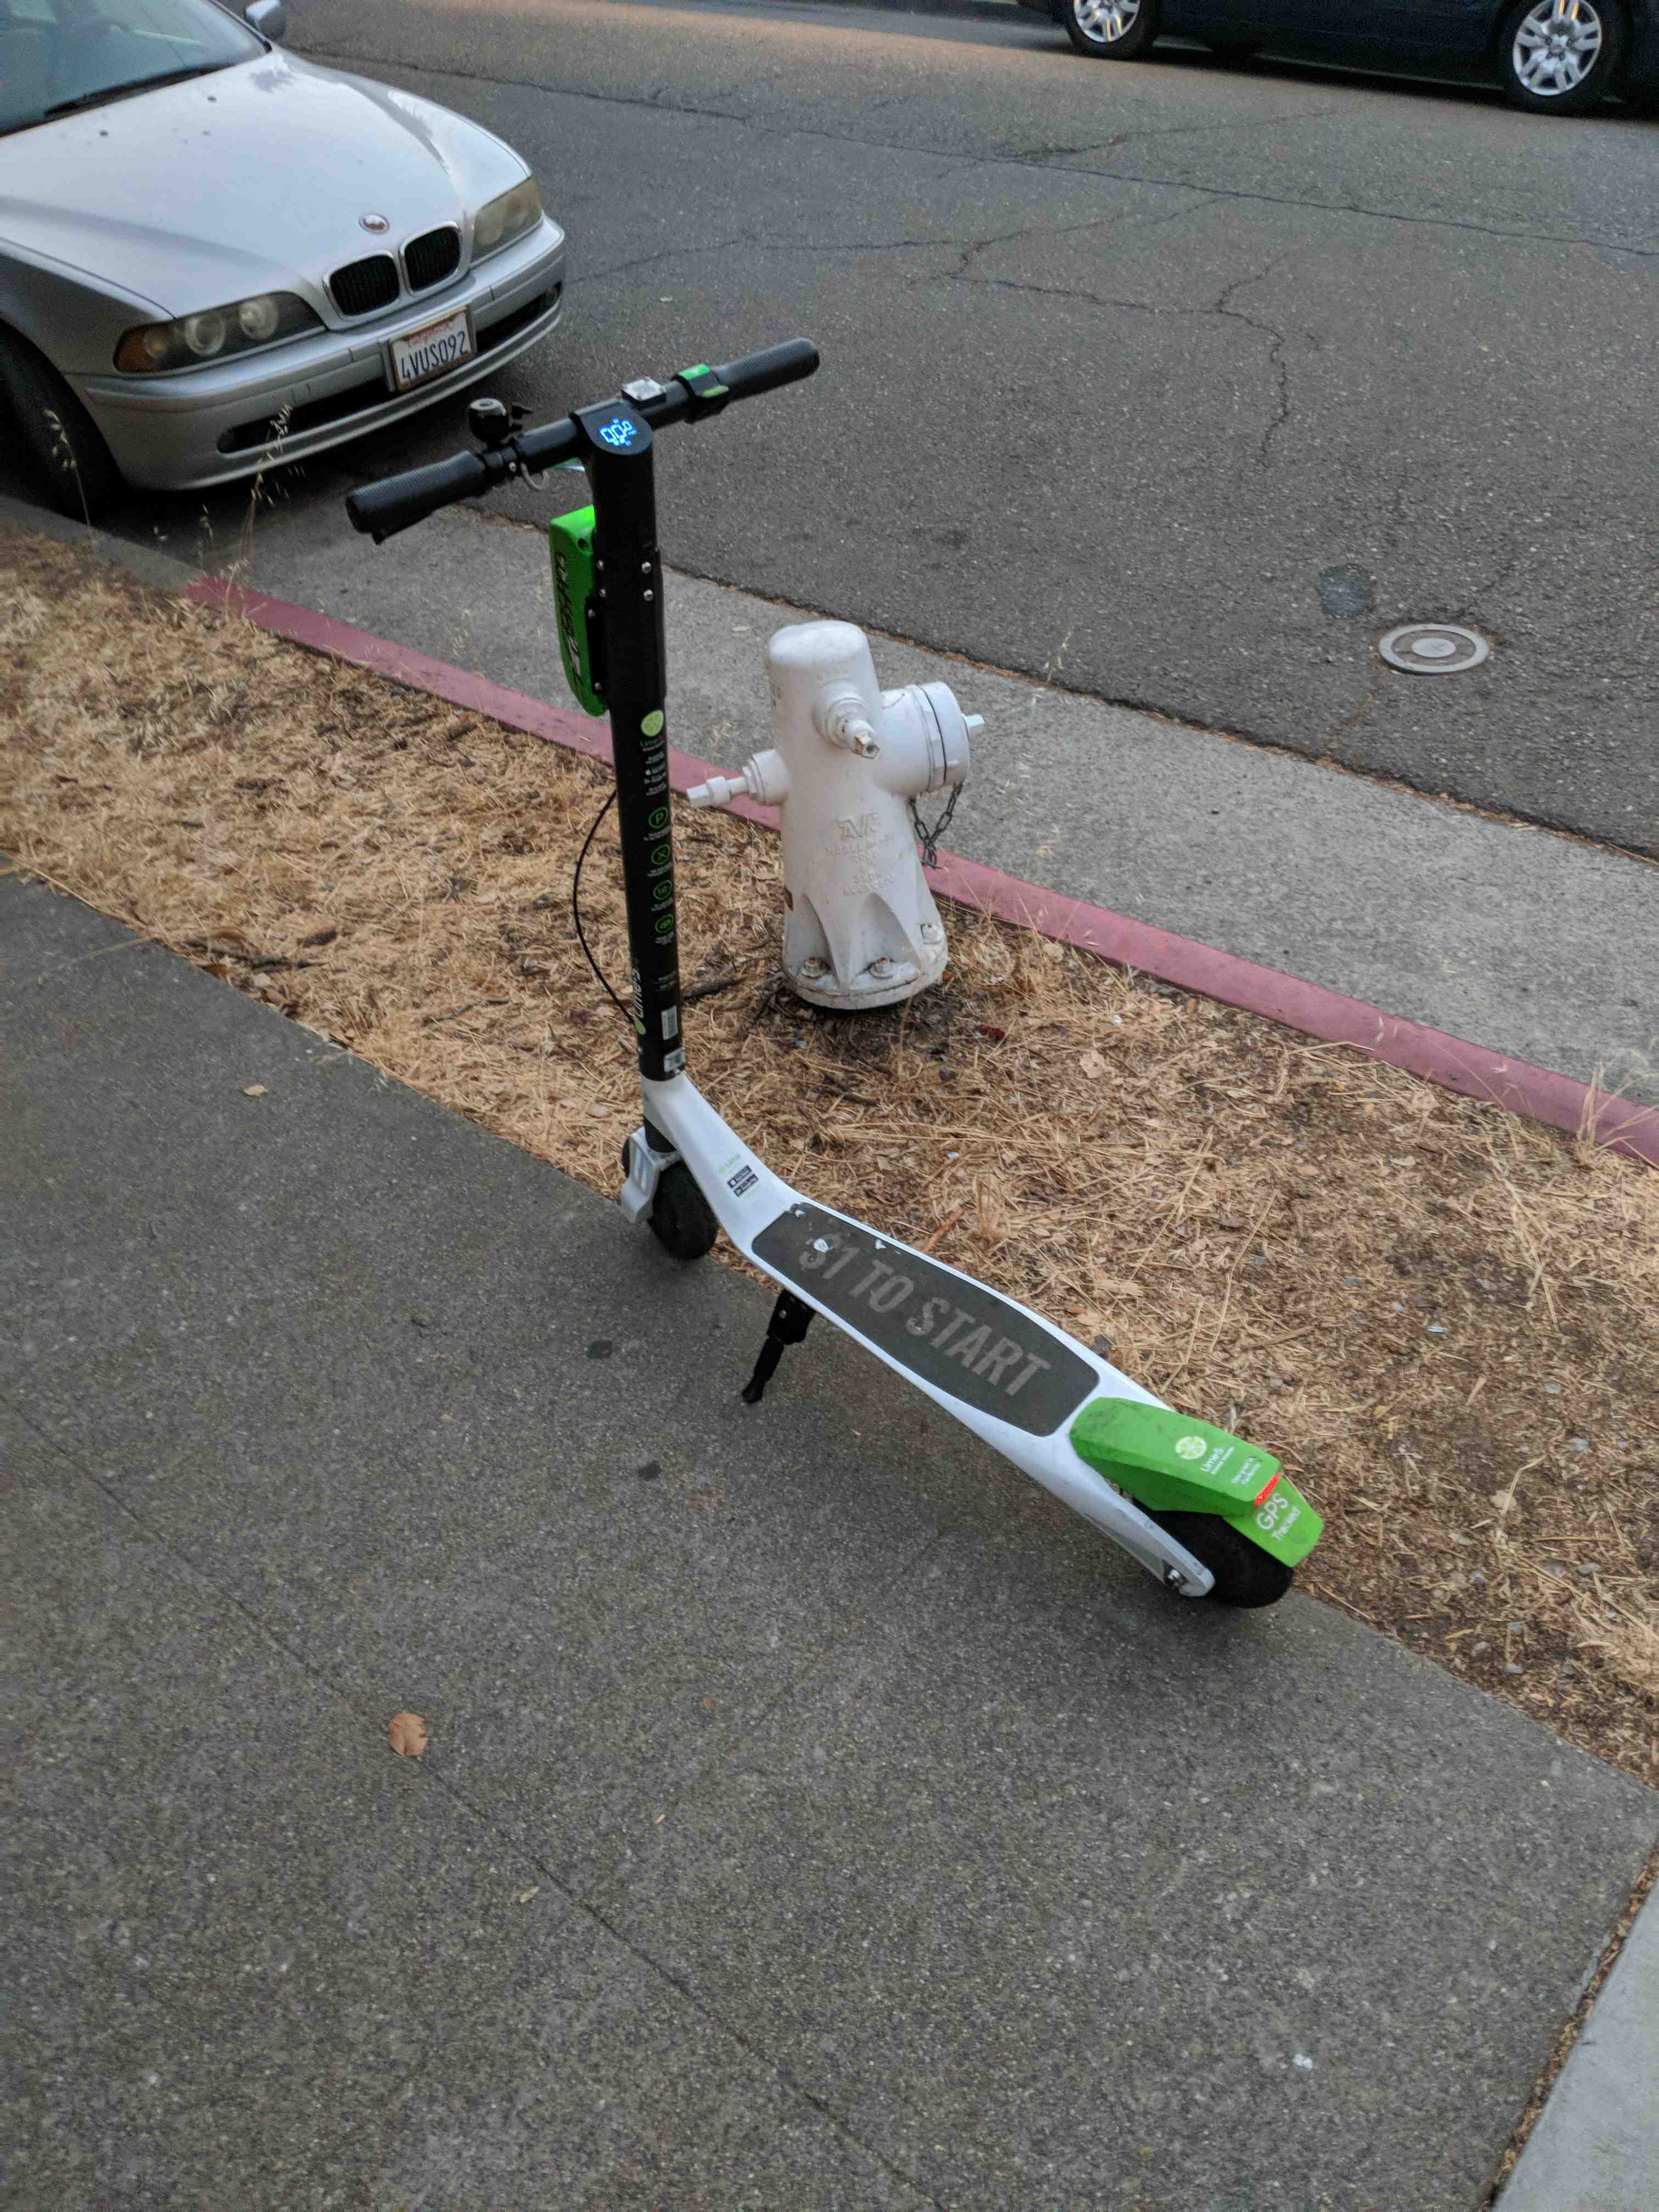scooter: (305, 320, 1364, 1632)
